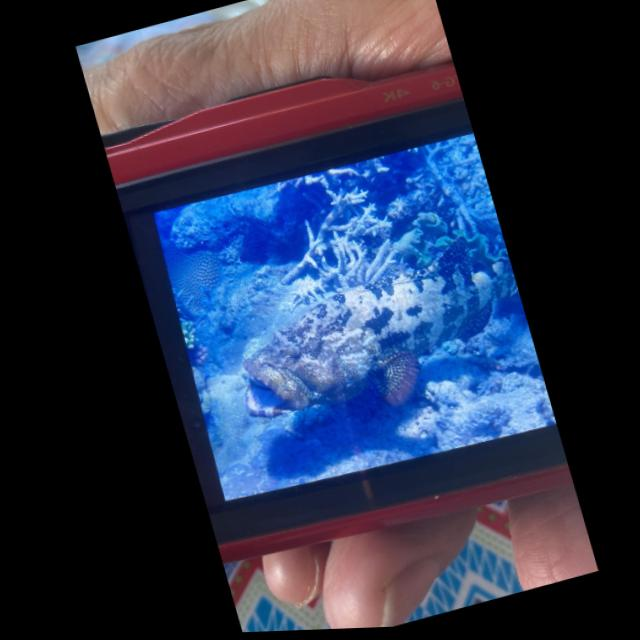Groupers: (213, 237, 544, 447)
